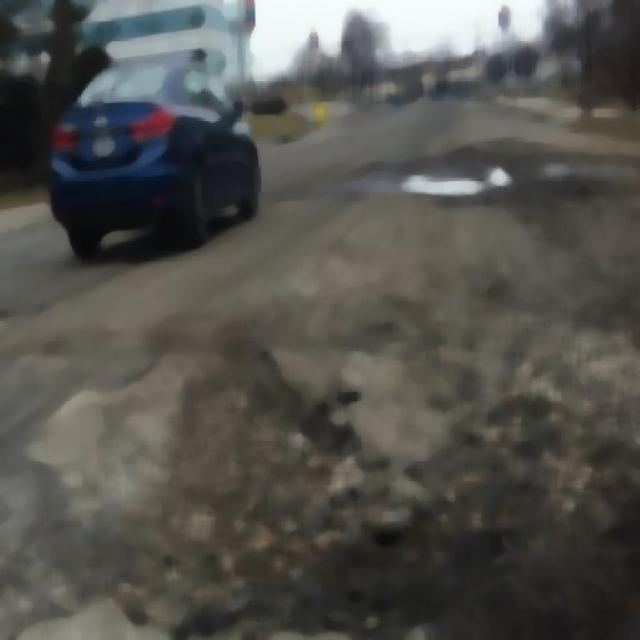Pothole: (190, 342, 333, 610), (396, 154, 510, 206)
